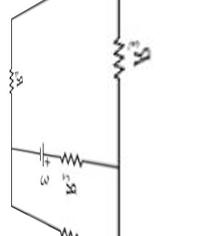resistor: (103, 32, 127, 80), (53, 144, 93, 167), (57, 218, 91, 235), (2, 60, 16, 95)
